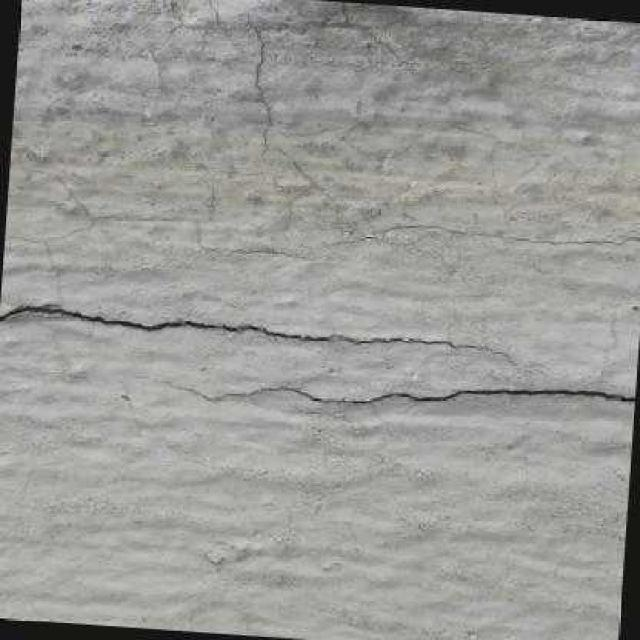D00: (0, 302, 473, 347), (279, 386, 635, 403)
